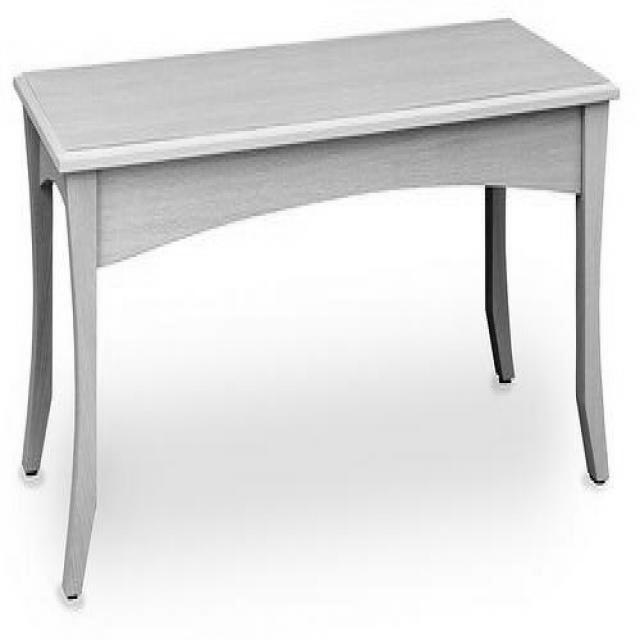table: (13, 15, 622, 600)
